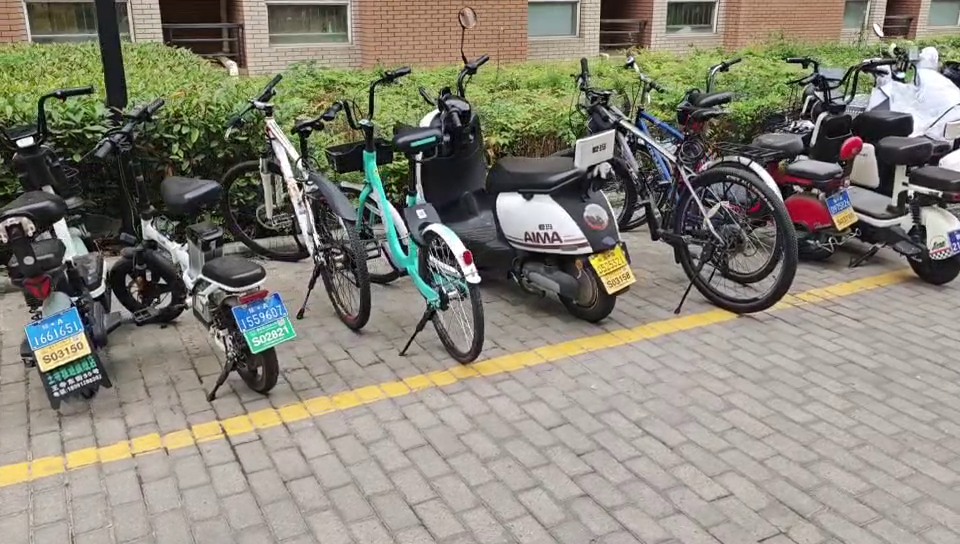others: (416, 50, 620, 312), (101, 104, 286, 389), (587, 77, 799, 311), (1, 90, 112, 400)
shared_bike_qingcong: (313, 66, 481, 372)
